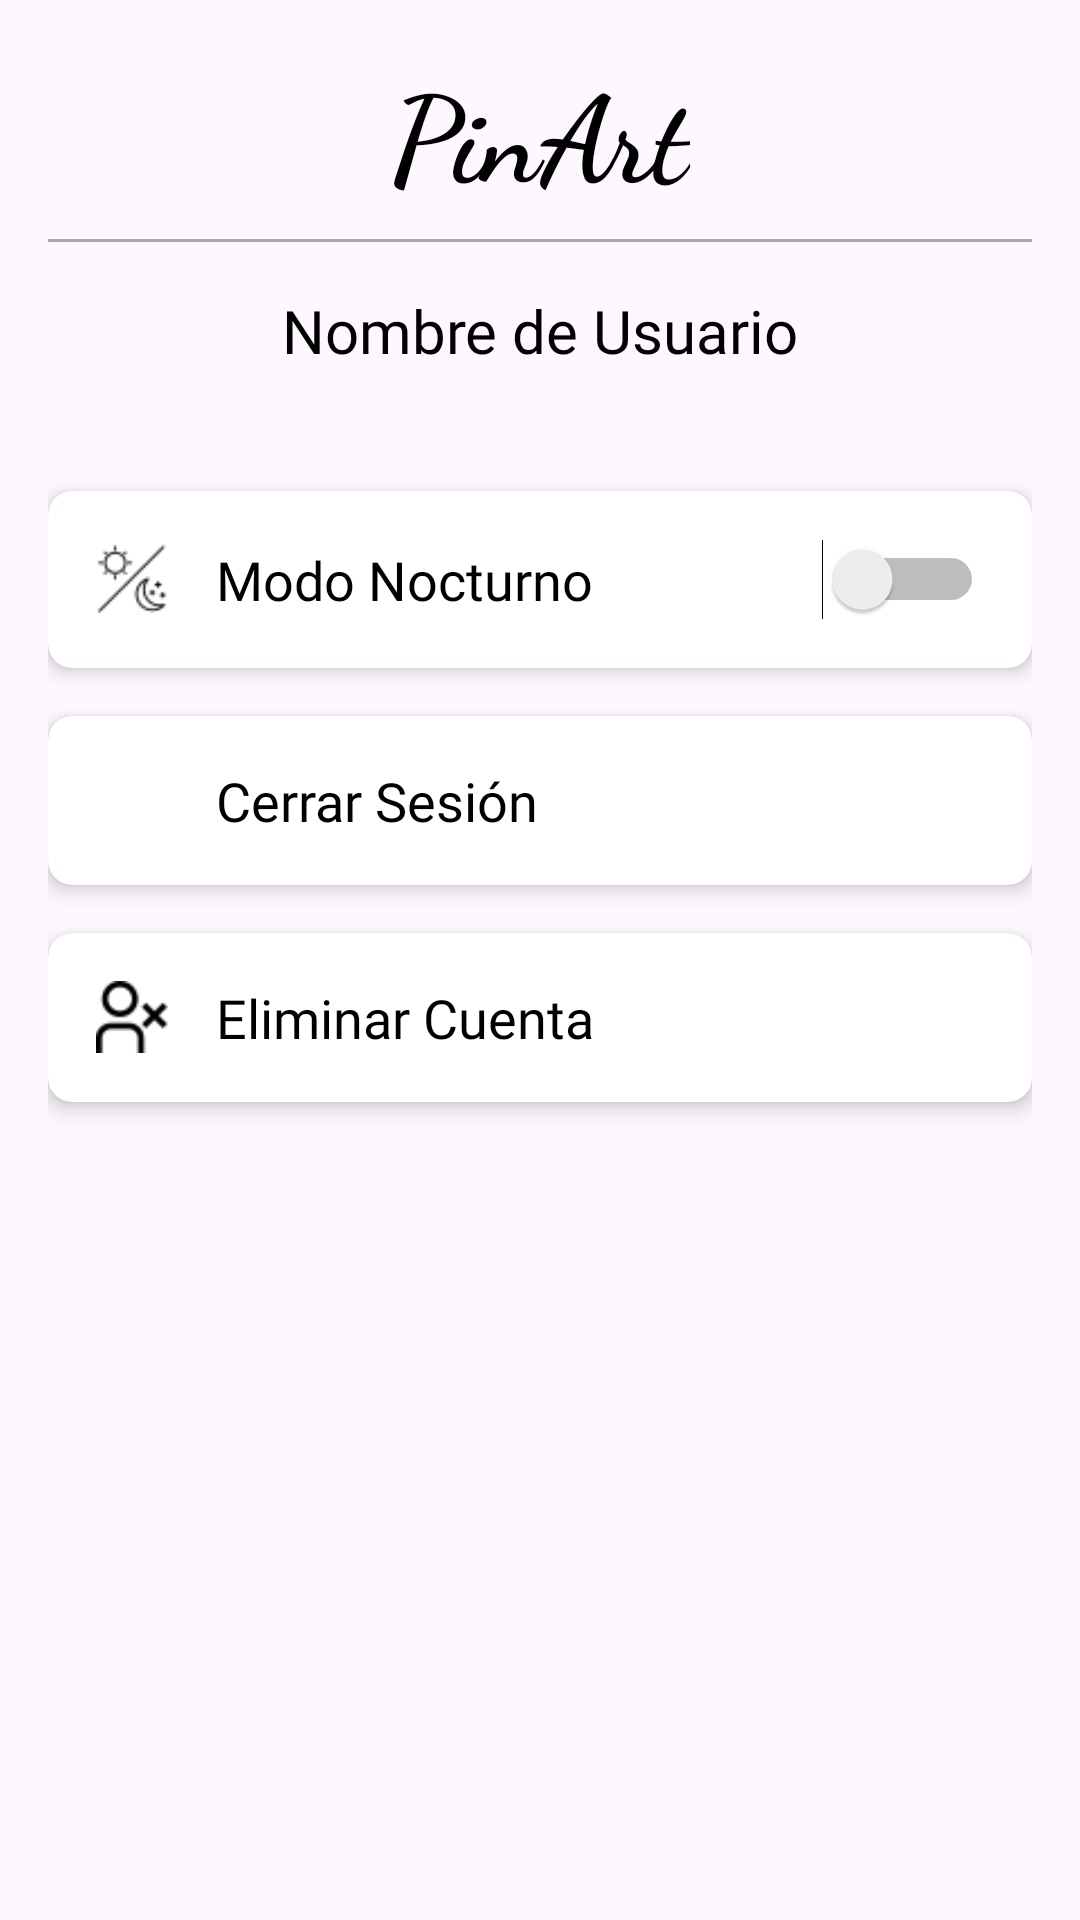

Locate icon controls on the screen. Image size 1080px x 1920px, boxes as (x1, y1, x2, y2).
diaynoche: (98, 545, 166, 613)
